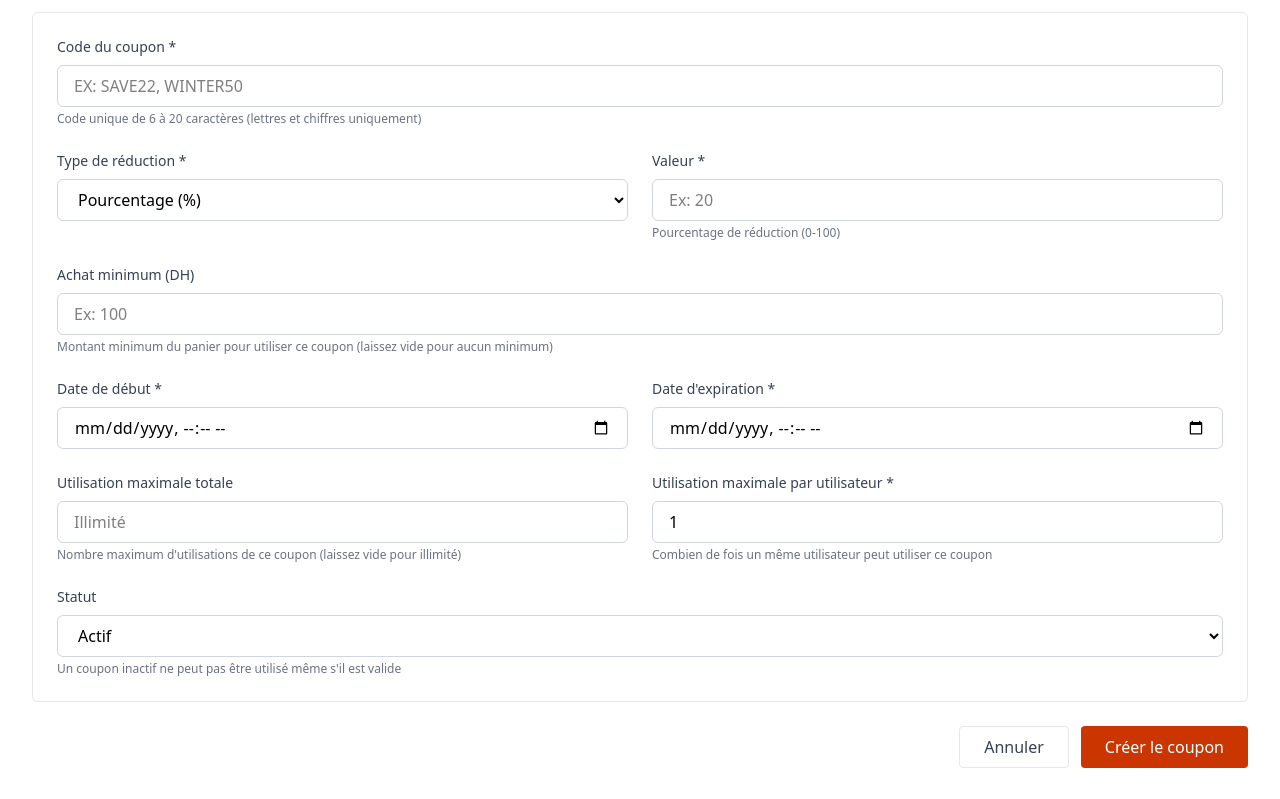
Scenario: AddCoupon Form › Valider remplit de tous les champs de formulaire
(page scrolled)
Click the button "Créer le coupon". click: point(1164, 747)
box: [1081, 726, 1248, 768]
(page scrolled)
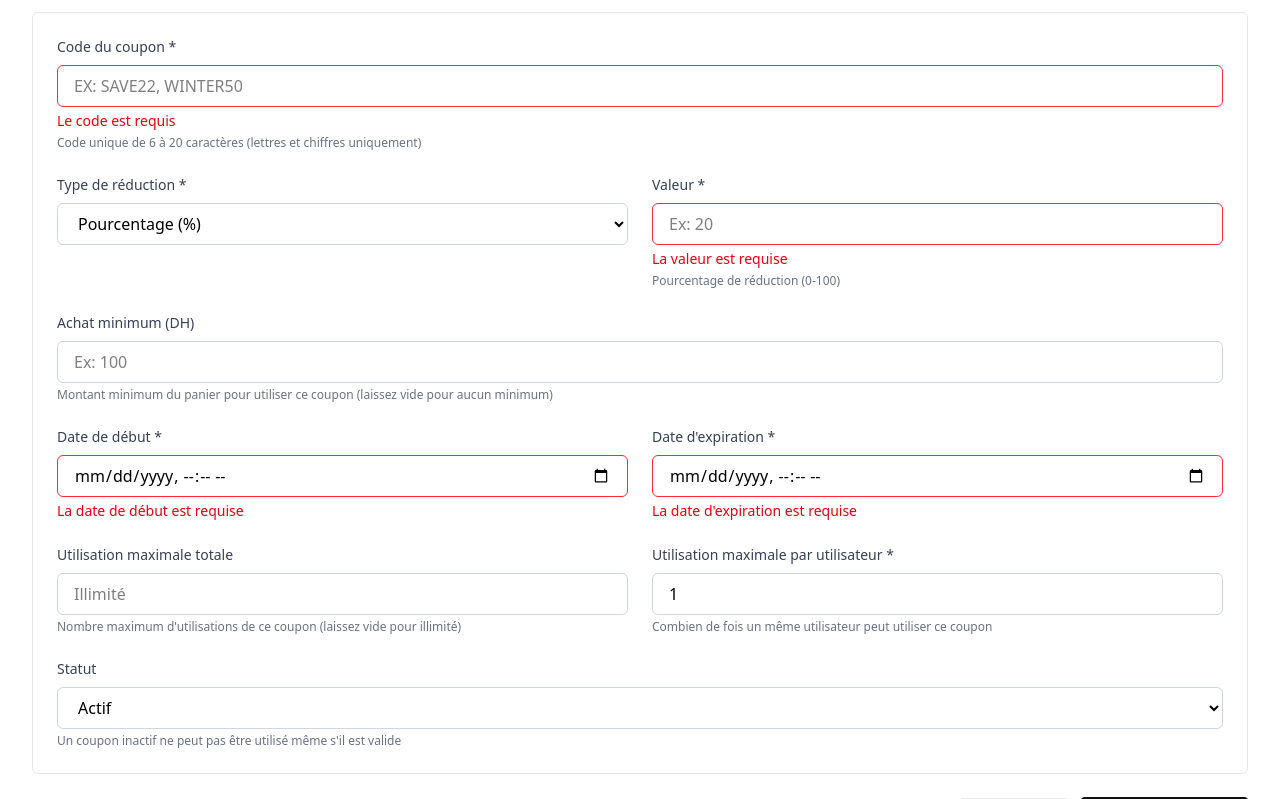
expect the text "Le code est requis" is shown: met, box [57, 111, 176, 130]
expect the text "La valeur est requise" is shown: met, box [652, 249, 788, 268]
expect the text "La date de début est requise" is shown: met, box [57, 501, 244, 520]
